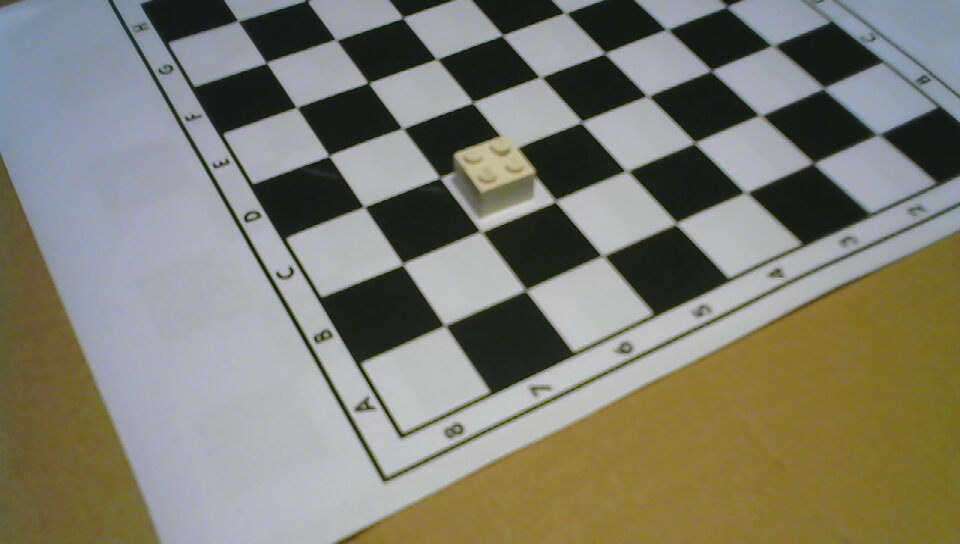wp: (452, 137, 534, 216)
